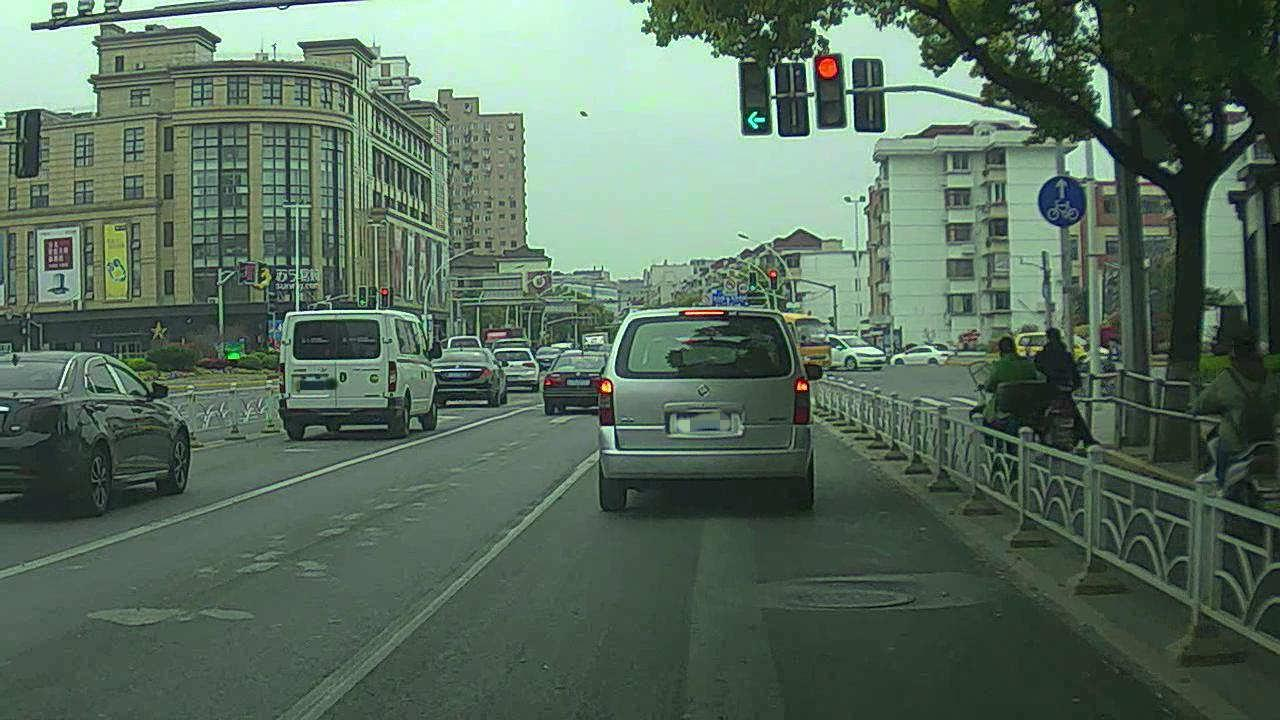traffic_light: (740, 63, 773, 139), (811, 57, 844, 127)
